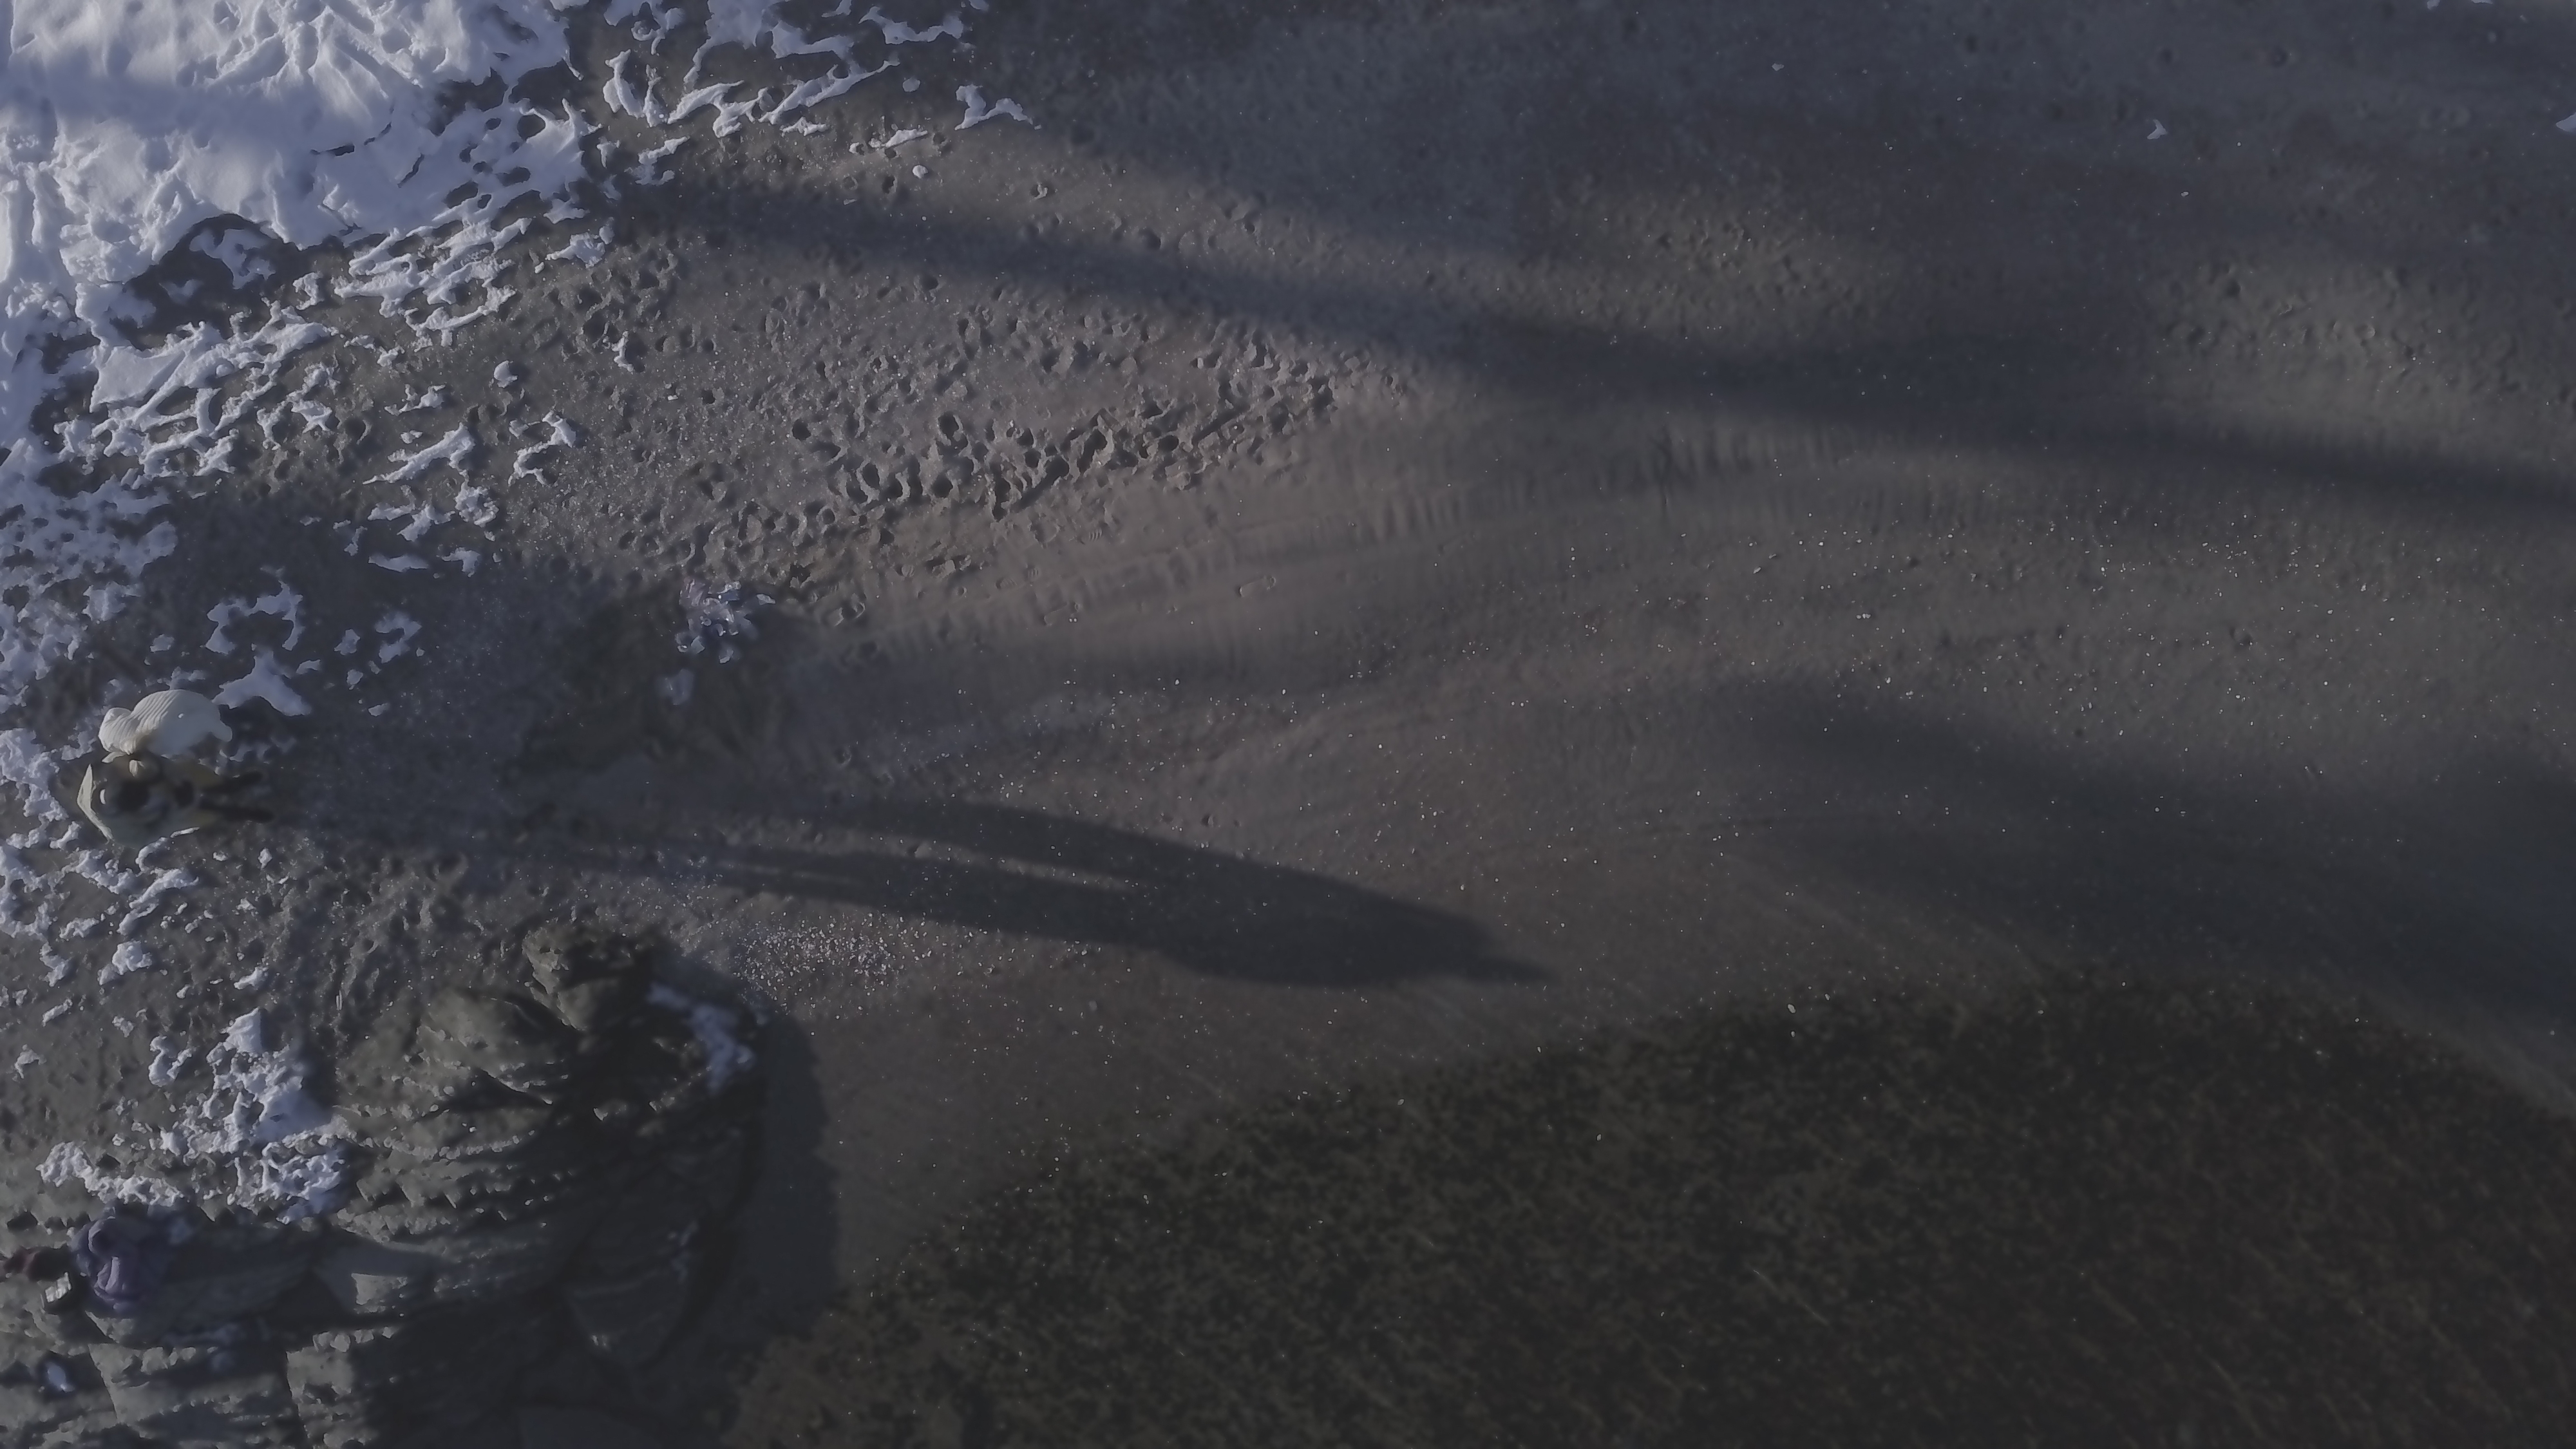Plastic: (729, 593, 775, 639), (656, 669, 697, 708), (683, 609, 734, 637), (695, 594, 738, 623), (708, 575, 748, 603), (678, 575, 704, 609), (676, 632, 708, 658), (717, 644, 747, 667)
